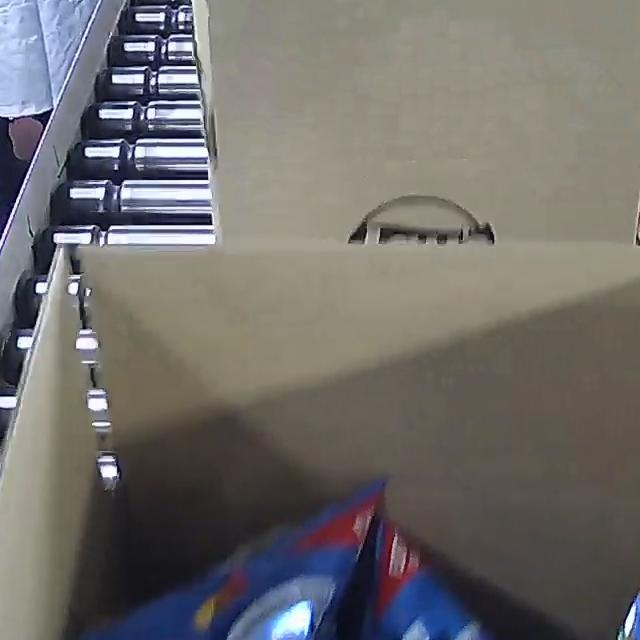paprika: (66, 478, 640, 640)
